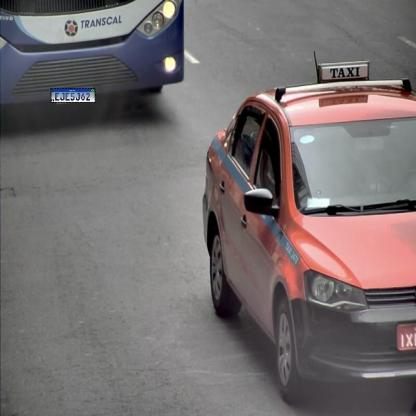PlacaM: (50, 88, 96, 103)
